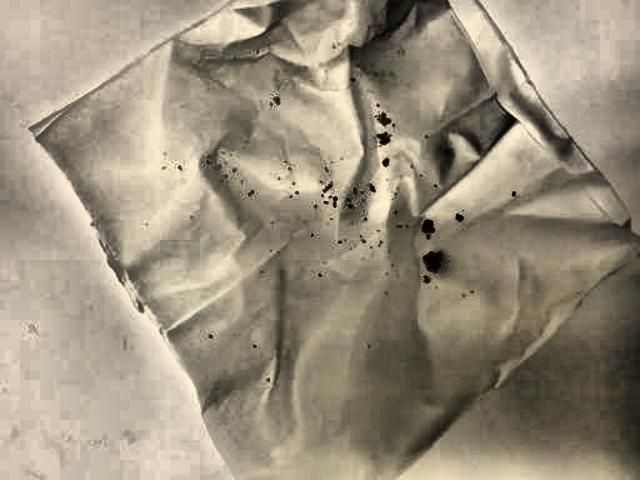Paper: (29, 0, 640, 480)
